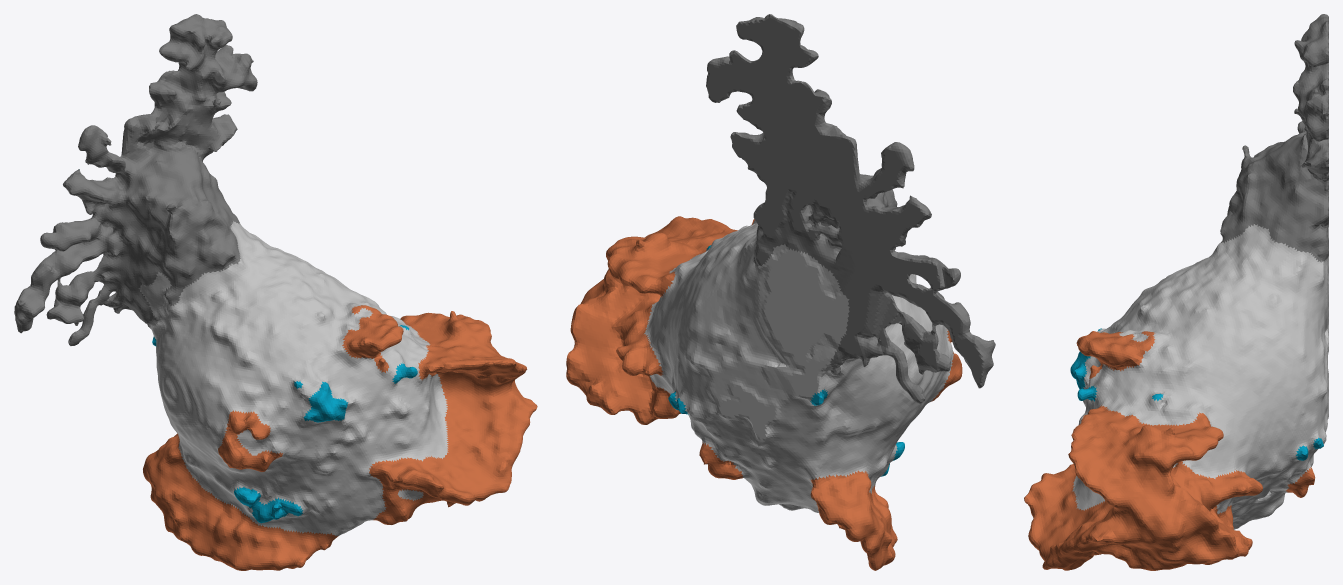
3 views of the same model, side by side, from view 1: azimuth 30°, elevation 25°; view 2: azimuth 150°, elevation 25°; view 3: azimuth 270°, elevation 25° (orthographic). The views are drawn at different scales.
Bounding box in the file's own units: 164 × 184 × 95.52.
